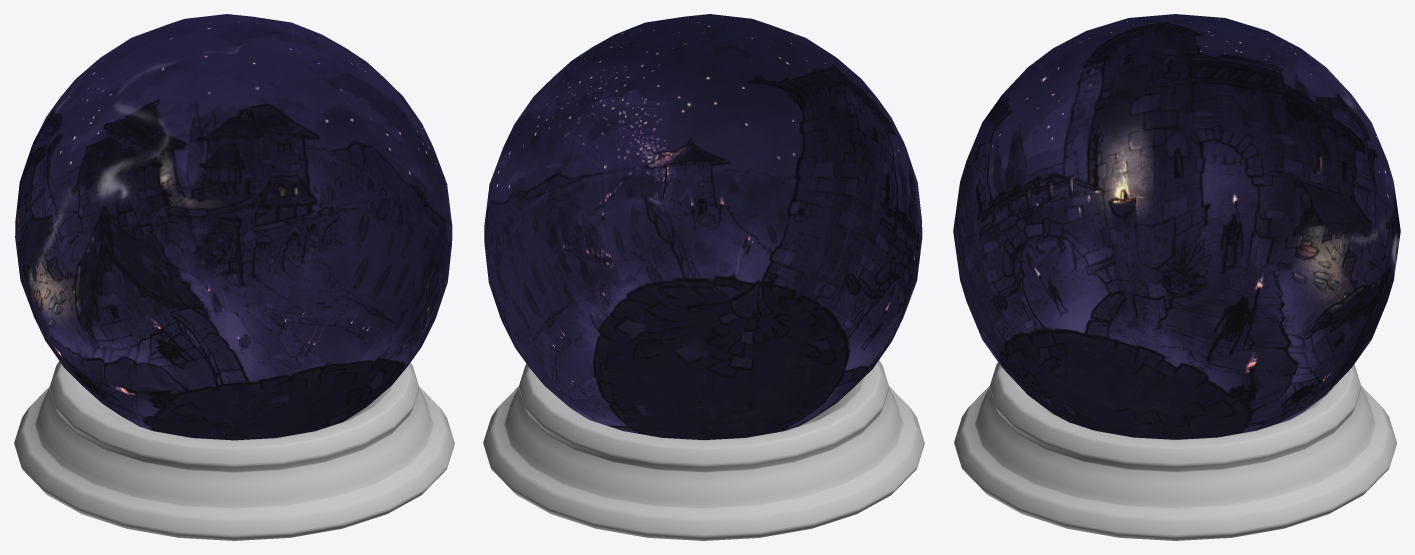
3 renders of one model, left to right at view 1: azimuth 30°, elevation 25°; view 2: azimuth 150°, elevation 25°; view 3: azimuth 270°, elevation 25°, orthographic.
Parts seen in each view (by area): view 1: Tef360, 002_0; view 2: Tef360, 002_0; view 3: Tef360, 002_0.
Part boxes in pixels (box(x1,y1,x2,y2)): Tef360: box(15, 14, 452, 440); 002_0: box(14, 361, 454, 540); Tef360: box(484, 14, 922, 439); 002_0: box(483, 360, 924, 540); Tef360: box(953, 14, 1400, 439); 002_0: box(954, 362, 1396, 540).
Size of what is drawn, in the model's own units: 2.62 by 2.72 by 2.65.
Materials: 2 (1 with a texture image).
